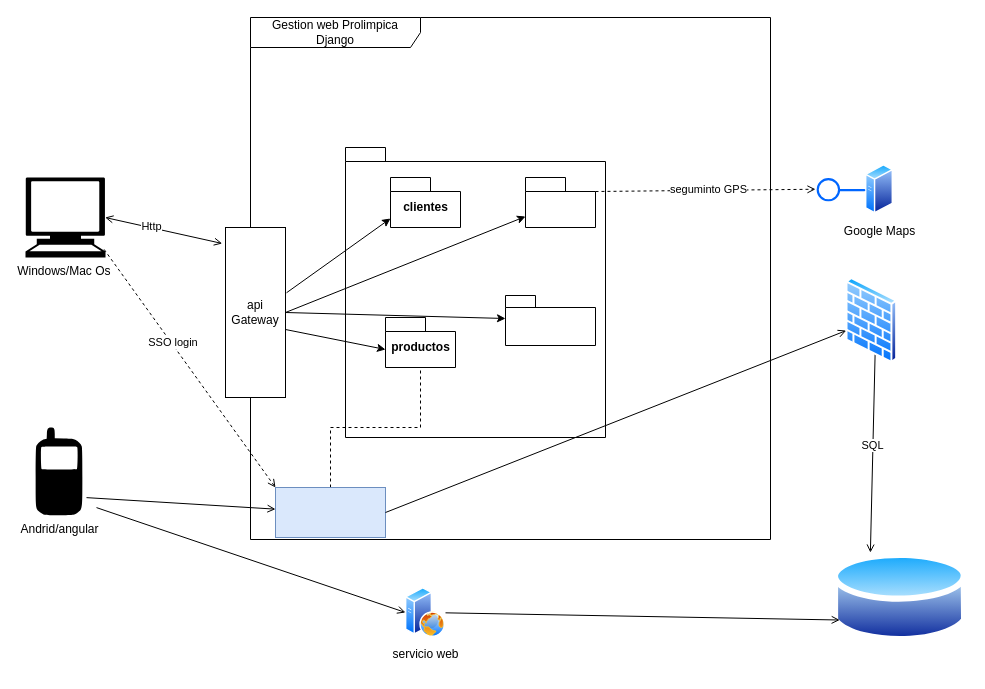
Some shapes in this 985 by 689 pixel diagram are drawn without their labels. Here are the shapes that lost their labels. From the top down, the centre of each, then its label:
At (560,202): "ventas".
At (550,320): "administardor".
At (330,512): "SSO".
At (899,597): "Mysql".
